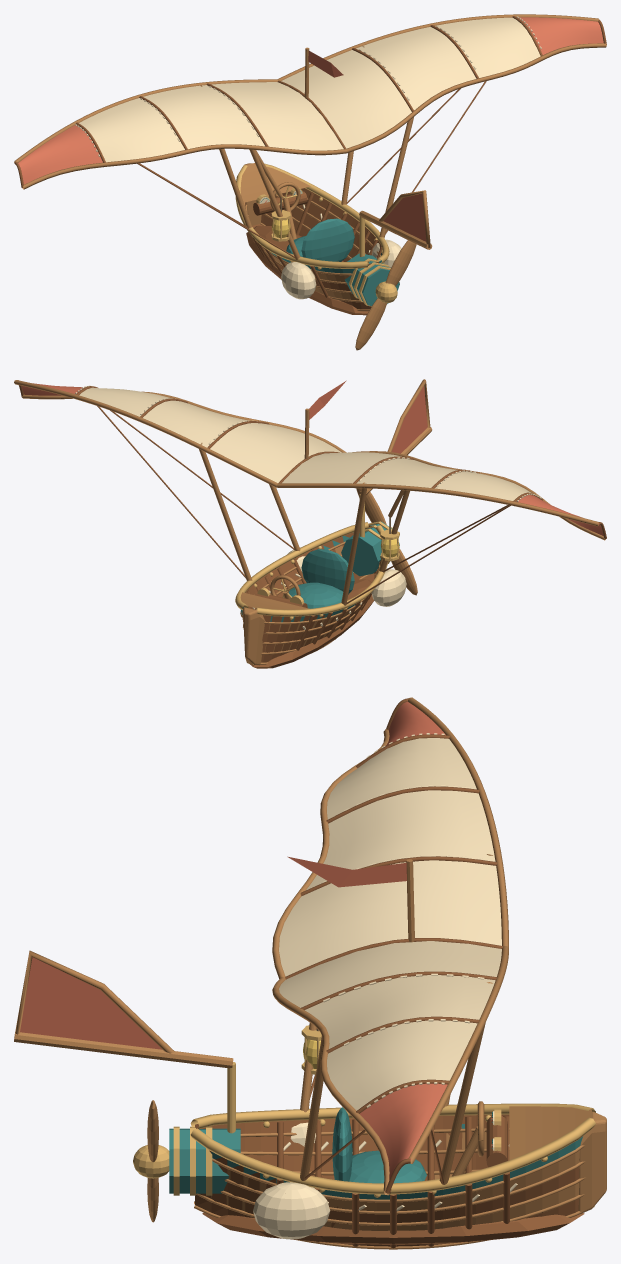
File: courier.glb
3 renders of one model, top to bottom at view 1: azimuth 30°, elevation 25°; view 2: azimuth 150°, elevation 25°; view 3: azimuth 270°, elevation 25°, orthographic. The views are drawn at different scales.
Visible parts, largest first — view 1: 缝合帆片.004, 缝合帆片.005, 缝合帆片, 缝合帆片.001, 缝合帆片.002, 缝合帆片.006, 连续船底与艏艉封板, 缝合帆片.003, 缝合帆片.007, 椅背, 弯曲翼梁.001, 弯曲翼梁.003 (+16 smaller); view 2: 缝合帆片.004, 连续船底与艏艉封板, 缝合帆片.005, 缝合帆片, 缝合帆片.001, 弯曲翼梁, 缝合帆片.002, 椅背, 弯曲翼梁.002, 缝合帆片.006, 舱底, 后置引擎 (+20 smaller); view 3: 缝合帆片, 缝合帆片.001, 连续船底与艏艉封板, 缝合帆片.006, 缝合帆片.005, 缝合帆片.004, 尾帆, 缝合帆片.002, 舱底, 舷缘.001, 缝合帆片.007, 邮袋.001 (+31 smaller).
Part boxes in pixels (x1=…): 缝合帆片.004: x1=281, y1=50, x2=411, y2=148; 缝合帆片.005: x1=356, y1=26, x2=476, y2=110; 缝合帆片: x1=212, y1=82, x2=343, y2=150; 缝合帆片.001: x1=143, y1=85, x2=264, y2=149; 缝合帆片.002: x1=79, y1=98, x2=184, y2=162; 缝合帆片.006: x1=435, y1=17, x2=540, y2=77; 连续船底与艏艉封板: x1=251, y1=188, x2=382, y2=297; 缝合帆片.003: x1=18, y1=125, x2=102, y2=184; 缝合帆片.007: x1=518, y1=17, x2=603, y2=54; 椅背: x1=301, y1=218, x2=354, y2=261; 弯曲翼梁.001: x1=22, y1=144, x2=347, y2=189; 弯曲翼梁.003: x1=346, y1=43, x2=606, y2=153; 缝合帆片.004: x1=210, y1=423, x2=341, y2=482; 连续船底与艏艉封板: x1=245, y1=525, x2=381, y2=662; 缝合帆片.005: x1=143, y1=400, x2=248, y2=447; 缝合帆片: x1=282, y1=452, x2=401, y2=483; 缝合帆片.001: x1=356, y1=458, x2=457, y2=487; 弯曲翼梁: x1=276, y1=483, x2=598, y2=526; 缝合帆片.002: x1=434, y1=471, x2=530, y2=500; 椅背: x1=301, y1=549, x2=354, y2=594; 弯曲翼梁.002: x1=14, y1=380, x2=277, y2=487; 缝合帆片.006: x1=79, y1=387, x2=170, y2=416; 舱底: x1=250, y1=579, x2=373, y2=668; 后置引擎: x1=341, y1=521, x2=399, y2=576; 缝合帆片: x1=279, y1=860, x2=501, y2=976; 缝合帆片.001: x1=306, y1=790, x2=495, y2=890; 连续船底与艏艉封板: x1=195, y1=1114, x2=509, y2=1248; 缝合帆片.006: x1=327, y1=1020, x2=477, y2=1110; 缝合帆片.005: x1=305, y1=975, x2=495, y2=1048; 缝合帆片.004: x1=279, y1=941, x2=501, y2=1007; 尾帆: x1=20, y1=957, x2=161, y2=1049; 缝合帆片.002: x1=327, y1=738, x2=476, y2=819; 舱底: x1=202, y1=1213, x2=584, y2=1244; 舷缘.001: x1=190, y1=1117, x2=595, y2=1194; 缝合帆片.007: x1=360, y1=1083, x2=447, y2=1179; 邮袋.001: x1=253, y1=1182, x2=330, y2=1239.
Bounding box in the file's own units: 10.75 × 4.19 × 5.83.
